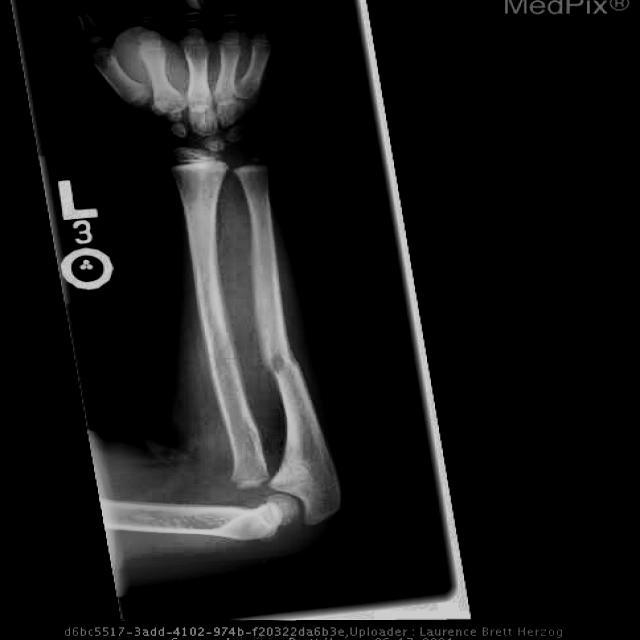fracture: (260, 352, 295, 372)
